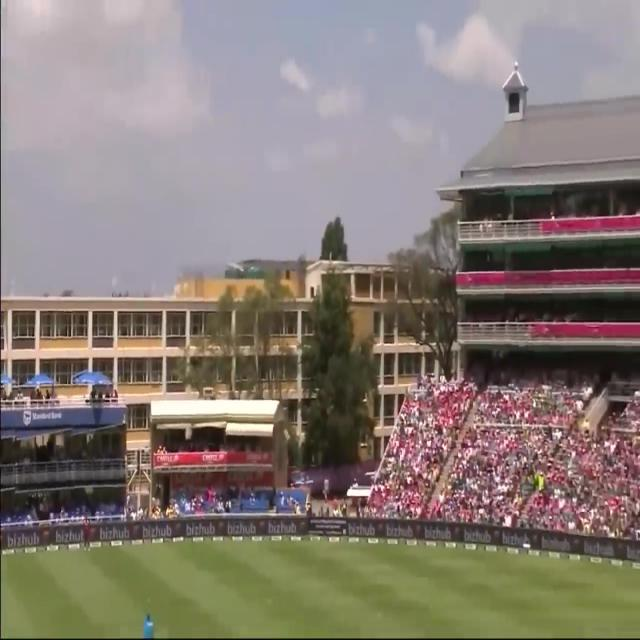Umpire: (139, 610, 156, 638)
